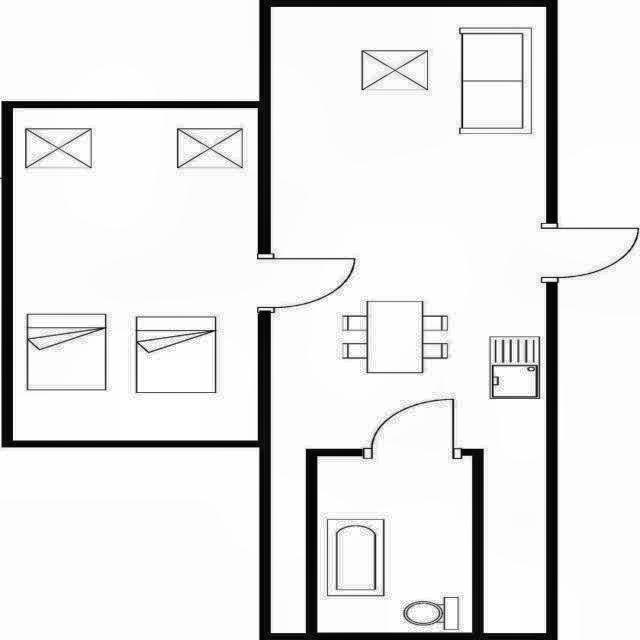room: (271, 7, 546, 634), (13, 108, 257, 440), (318, 457, 471, 632)
